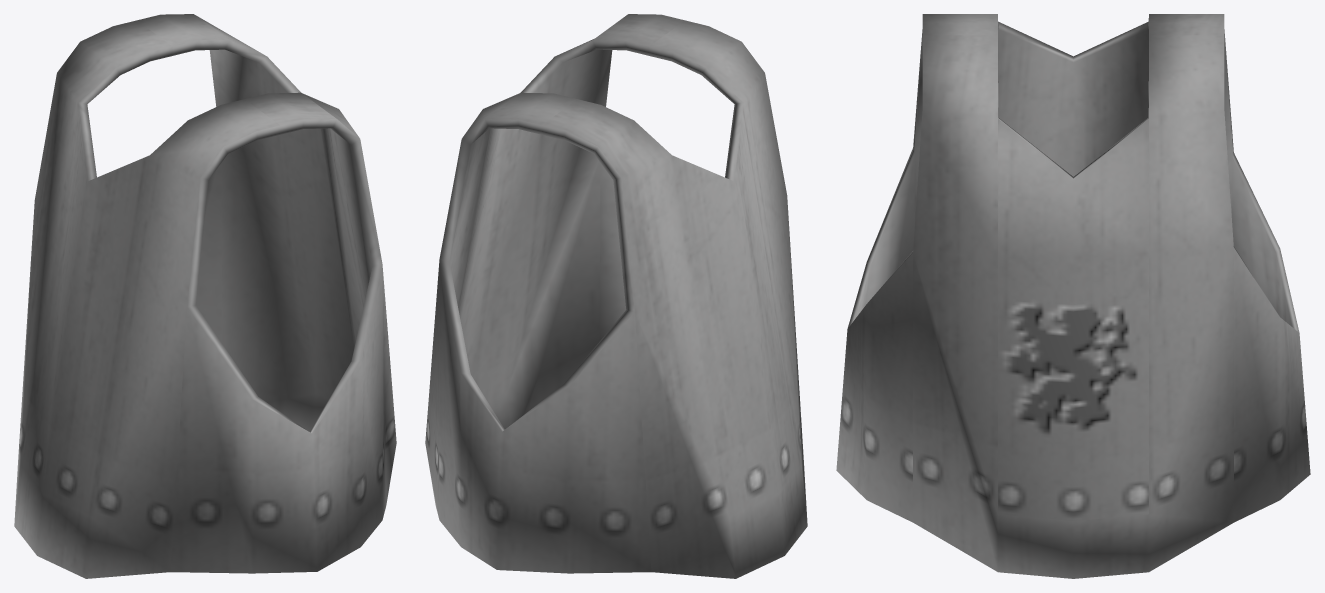
File: KnightCuirass.fbx
3 views of the same model, side by side, from view 1: azimuth 30°, elevation 25°; view 2: azimuth 150°, elevation 25°; view 3: azimuth 270°, elevation 25° (orthographic). The views are drawn at different scales.
Visible parts, largest first — view 1: Plane; view 2: Plane; view 3: Plane.
Boxes of the visible parts, box(x1,y1,x2,y2) form: Plane: box(14, 14, 396, 578); Plane: box(425, 14, 807, 578); Plane: box(836, 14, 1310, 578).
Bounding box in the file's own units: 125 × 156 × 144.
